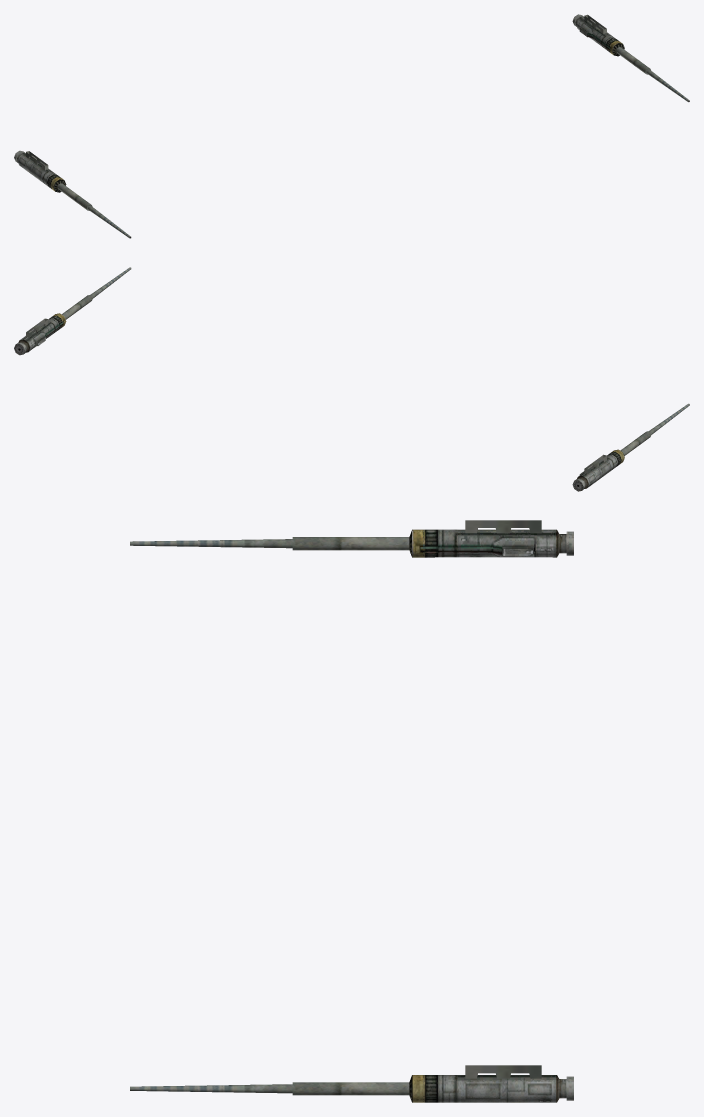
The model's file is hutt_fighter_heavy_weapon2_s01_l0.fbx.
3 views of the same model, one above another, from view 1: azimuth 30°, elevation 25°; view 2: azimuth 150°, elevation 25°; view 3: azimuth 270°, elevation 25° (orthographic). The views are drawn at different scales.
Parts seen in each view (by area): view 1: mesh_node; view 2: mesh_node; view 3: mesh_node.
Boxes of the visible parts, x1,y1,x2,y2 form: mesh_node: (14, 14, 689, 238); mesh_node: (14, 267, 689, 491); mesh_node: (130, 520, 573, 1102).
Size of the model in its own units: 26.57 by 0.7804 by 8.94.
